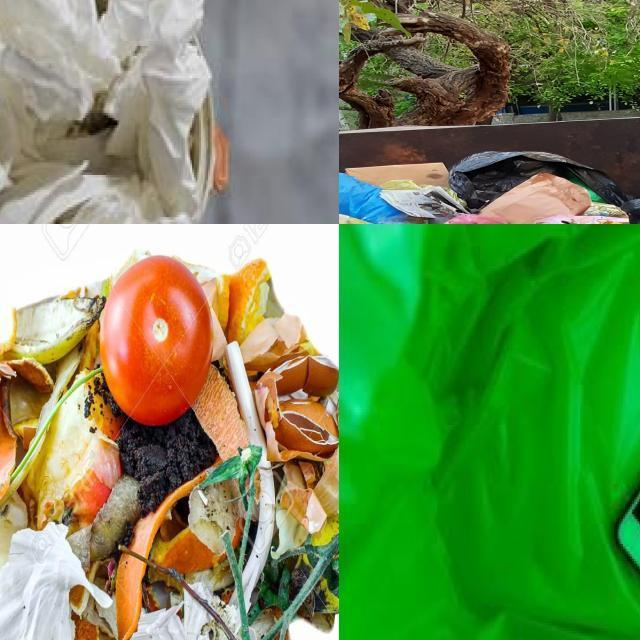Garbage: (0, 246, 339, 640), (339, 152, 640, 224)
Plastic_Bag: (449, 151, 632, 213), (339, 172, 411, 224), (564, 170, 605, 202), (533, 214, 629, 224), (584, 202, 629, 218), (443, 214, 510, 224), (378, 179, 434, 190), (428, 213, 455, 224), (443, 189, 464, 203)
